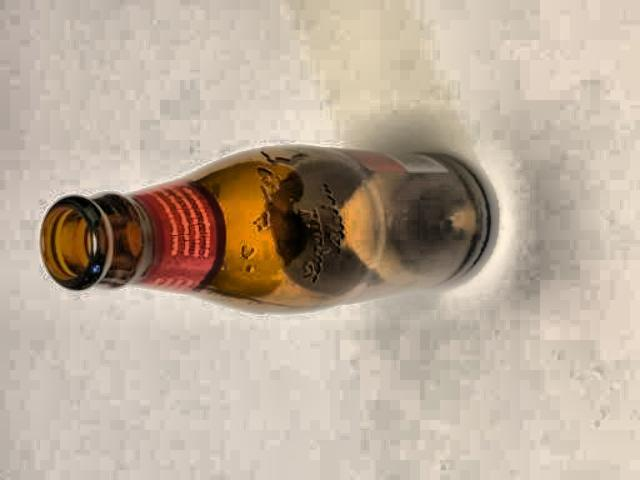Bottles: (19, 119, 514, 347)
